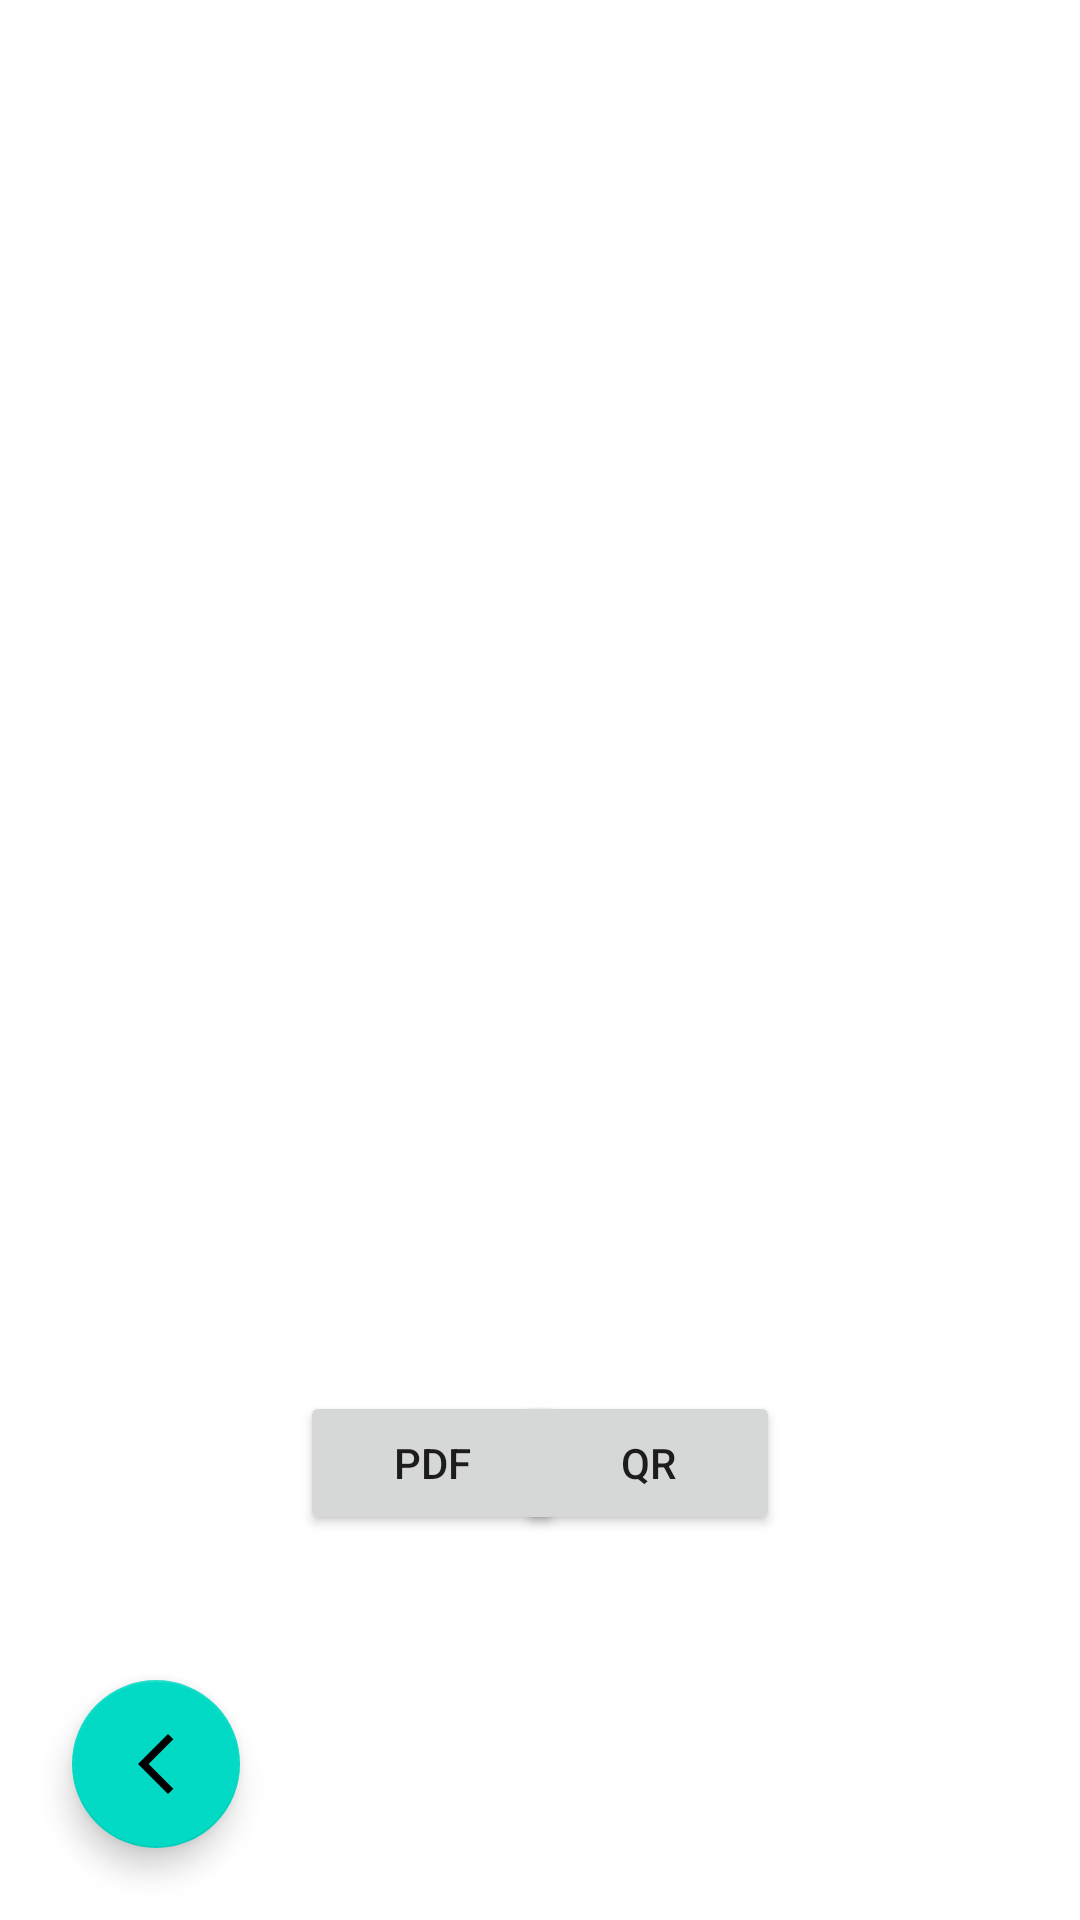

Icon bounding boxes for this 1080 × 1920 phone screenshot, format (x1, y1, x2, y2):
arrow back: (72, 1680, 240, 1848)
